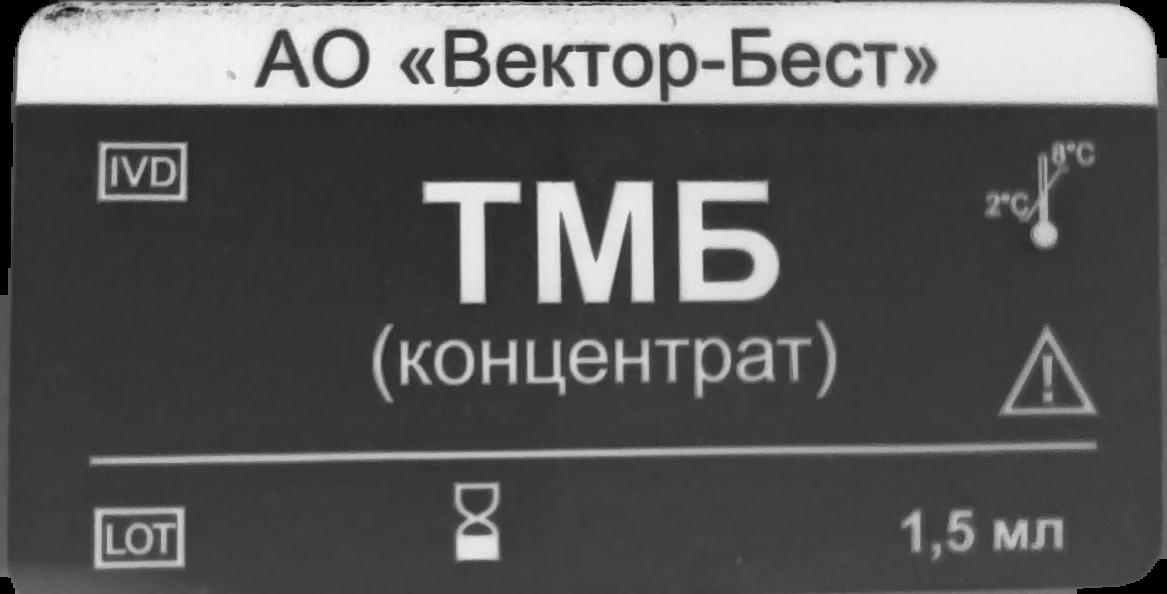something: (982, 138, 1098, 252), (998, 322, 1100, 422), (88, 507, 189, 576), (97, 137, 190, 205), (451, 480, 502, 567)
text: (369, 172, 841, 412), (249, 27, 948, 109), (899, 502, 1068, 569)
